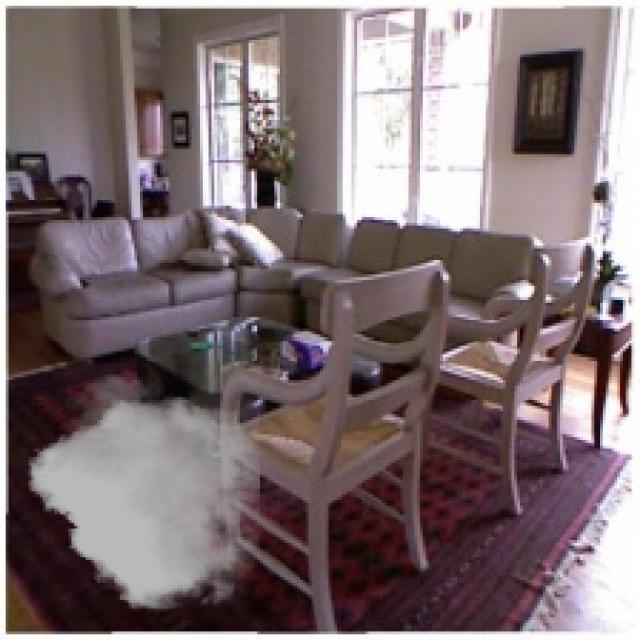smoke: (29, 369, 260, 614)
